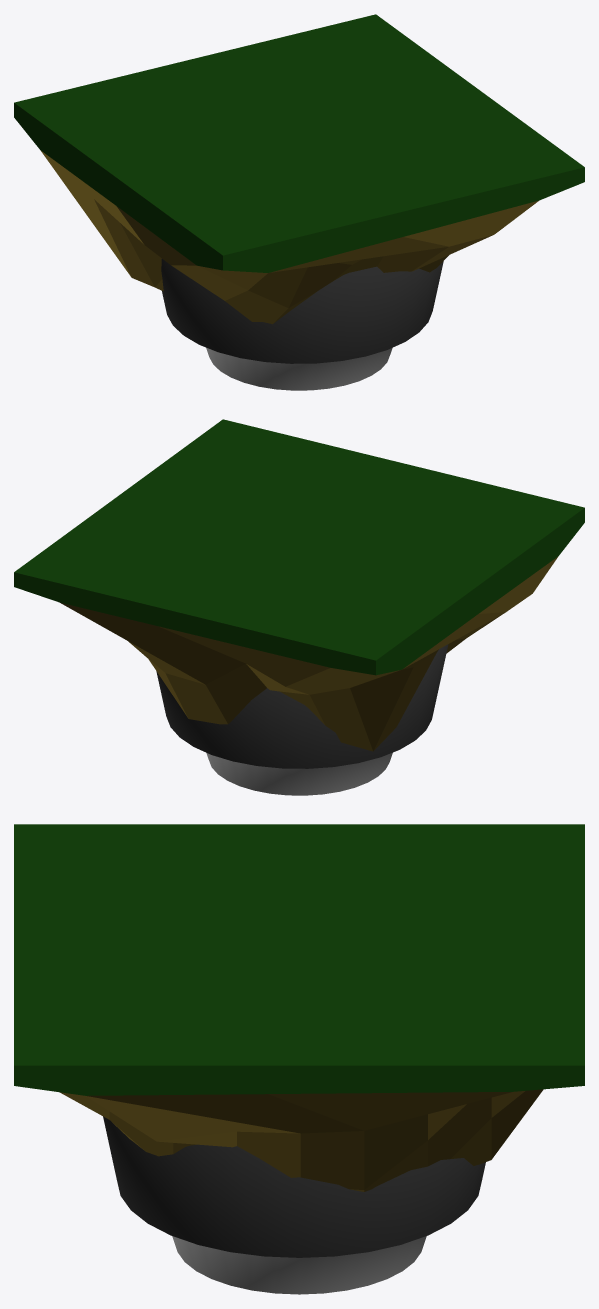
File: Island2.fbx
The picture shows the model from 3 angles, top to bottom: view 1: azimuth 30°, elevation 25°; view 2: azimuth 150°, elevation 25°; view 3: azimuth 270°, elevation 25°; orthographic projection. The views are drawn at different scales.
Parts seen in each view (by area): view 1: Island2; view 2: Island2; view 3: Island2.
Boxes of the visible parts, x1,y1,x2,y2 form: Island2: [14, 14, 584, 390]; Island2: [14, 419, 584, 795]; Island2: [14, 824, 584, 1294].
Bounding box in the file's own units: 5217 × 2993 × 5217.
